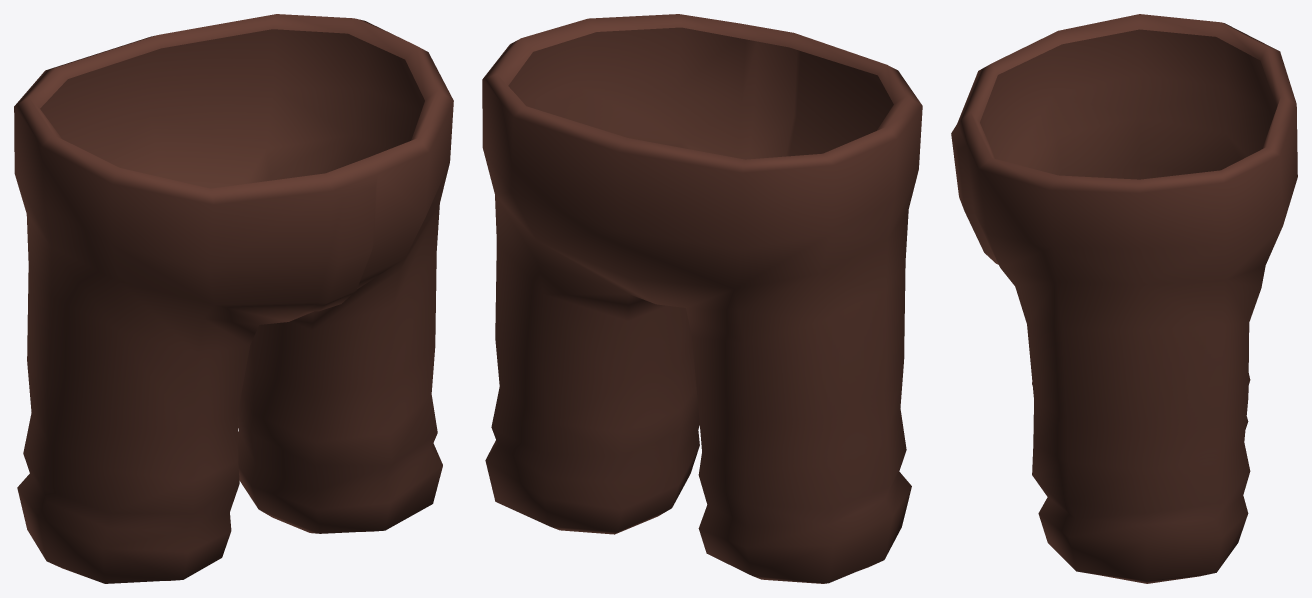
The model's file is Bottom_32.fbx.
3 views of the same model, side by side, from view 1: azimuth 30°, elevation 25°; view 2: azimuth 150°, elevation 25°; view 3: azimuth 270°, elevation 25° (orthographic). The views are drawn at different scales.
Visible parts, largest first — view 1: Bottom_32; view 2: Bottom_32; view 3: Bottom_32.
Part boxes in pixels (x1=…): Bottom_32: x1=14, y1=14, x2=453, y2=583; Bottom_32: x1=482, y1=14, x2=922, y2=583; Bottom_32: x1=951, y1=14, x2=1297, y2=583.
Size of the model in its own units: 38.42 by 41.84 by 31.97.
